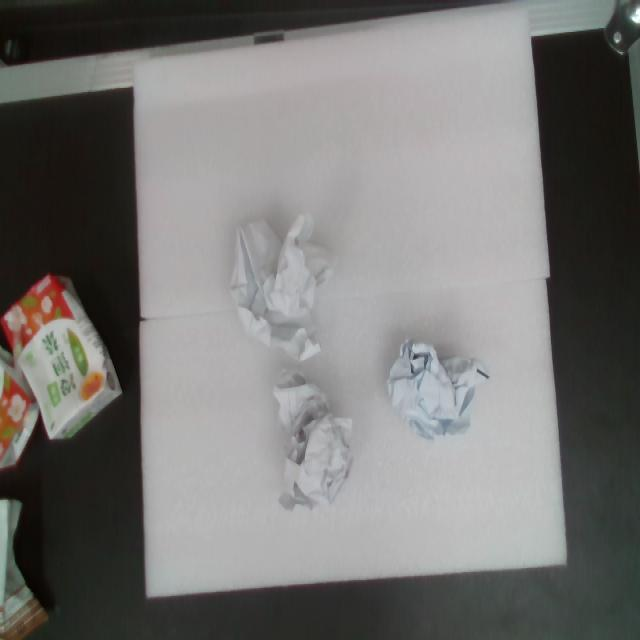juicebox: (0, 249, 150, 462)
paper: (207, 181, 347, 371), (240, 350, 377, 528), (360, 326, 507, 471)
